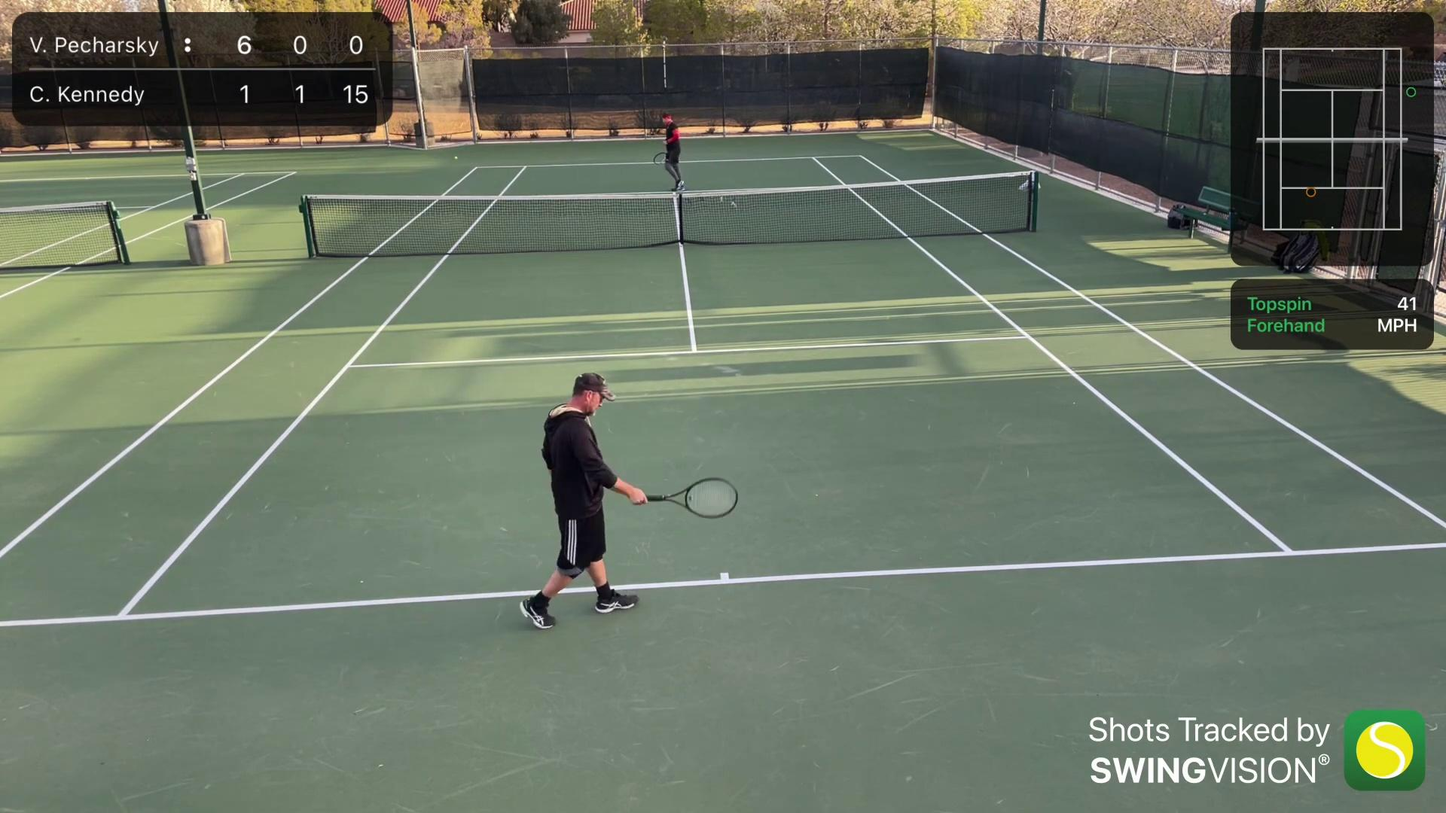ball: (939, 123, 946, 131), (453, 153, 458, 160)
